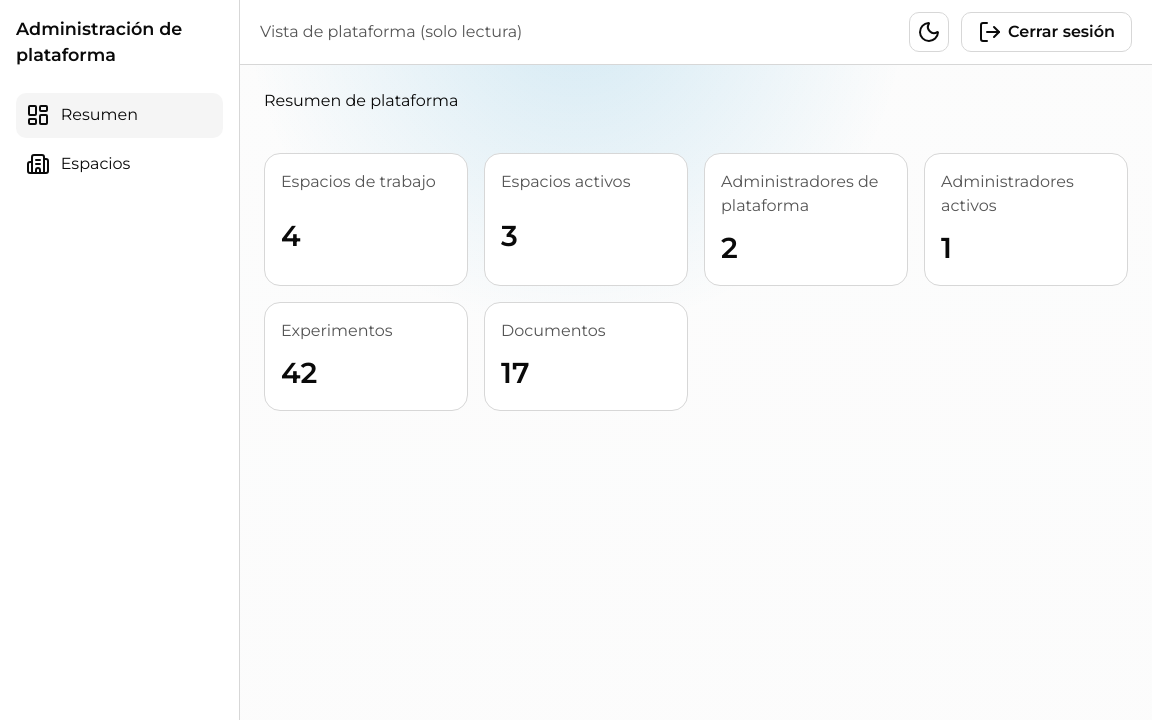
PlatformApp — authenticated navigation and content › logs out through the CSRF-protected endpoint and returns to the login screen
The image size is (1152, 720).
Expected: the heading "Resumen de plataforma" is shown, [264, 89, 458, 113]
What coordinates should you click on to do the following:
click the button "Cerrar sesión"
I would click on:
 (1046, 32)
Its box is [961, 12, 1132, 52].
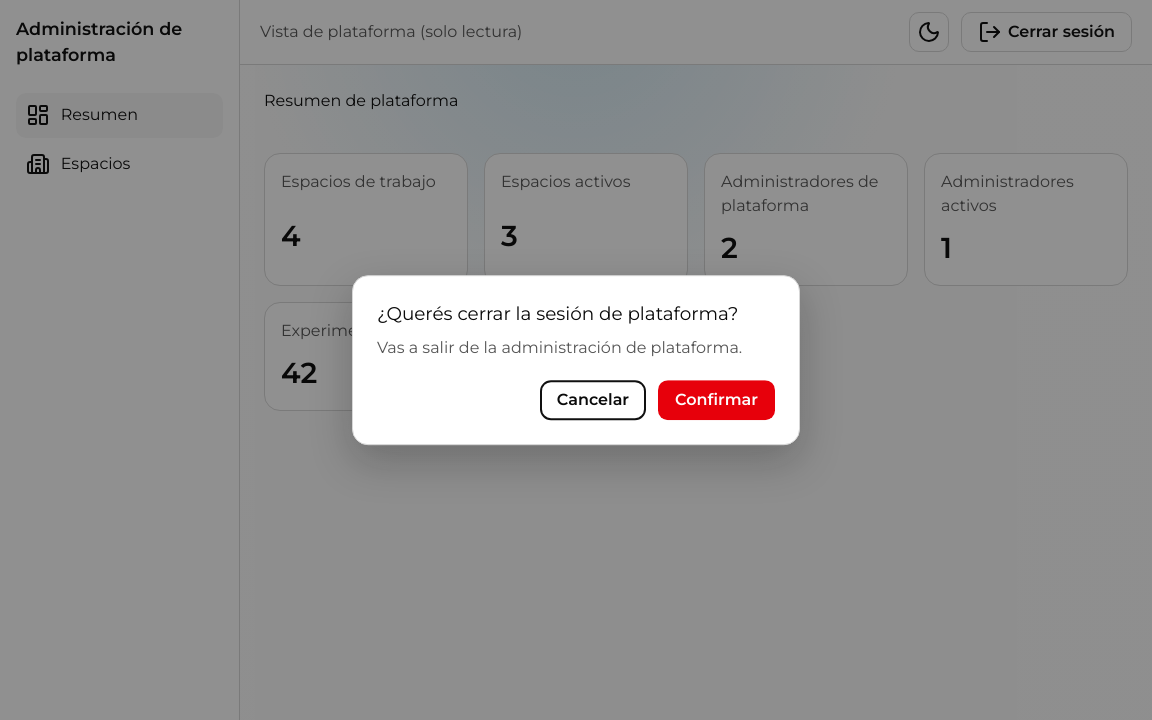
What coordinates should you click on to do the following:
click the button "Confirmar"
I would click on:
 (717, 400)
Its box is [658, 380, 775, 420].
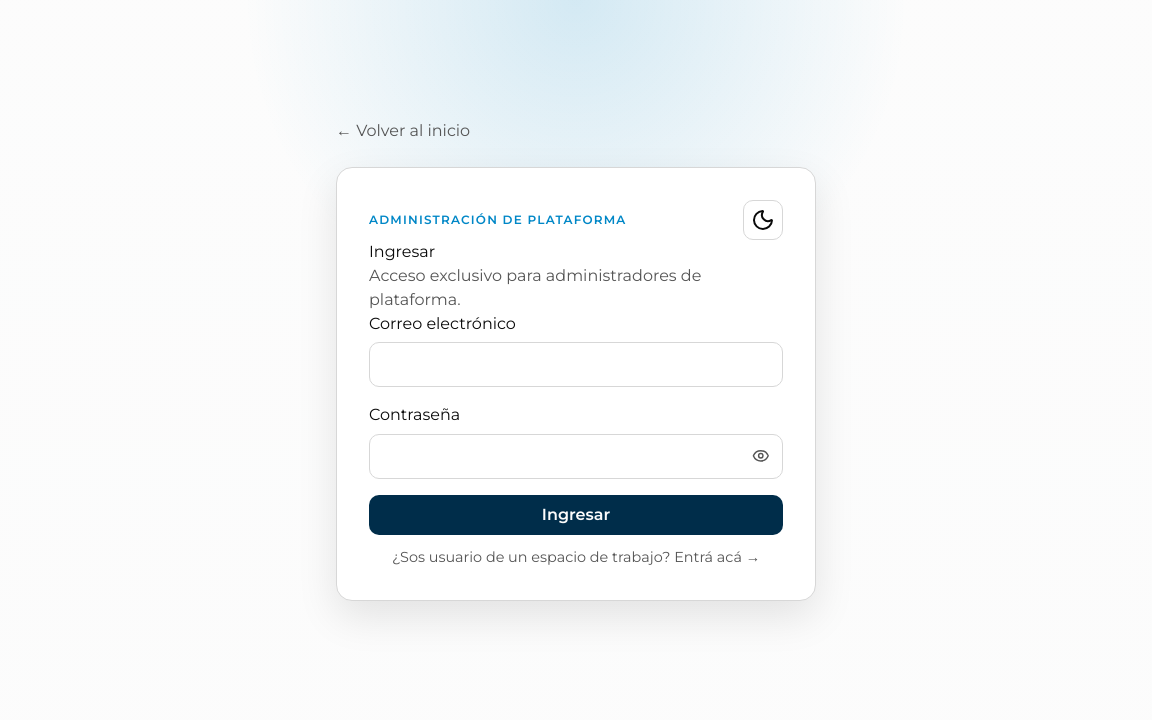
Now the heading "Ingresar" is shown, box [369, 242, 435, 261]
